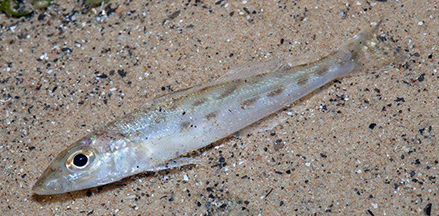kiss: (31, 27, 382, 196)
